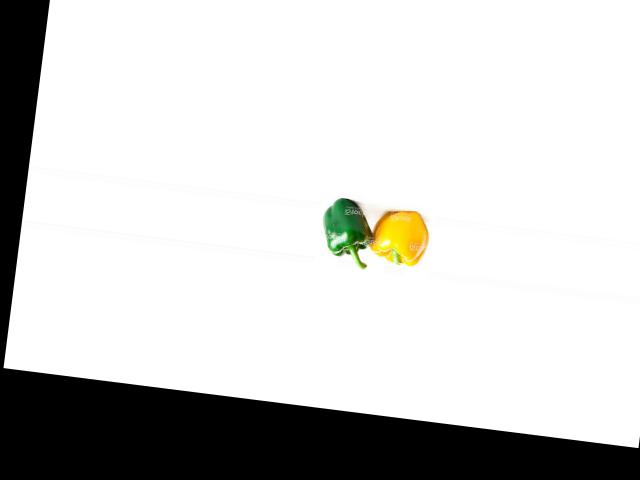bell_pepper: (313, 187, 377, 264)
